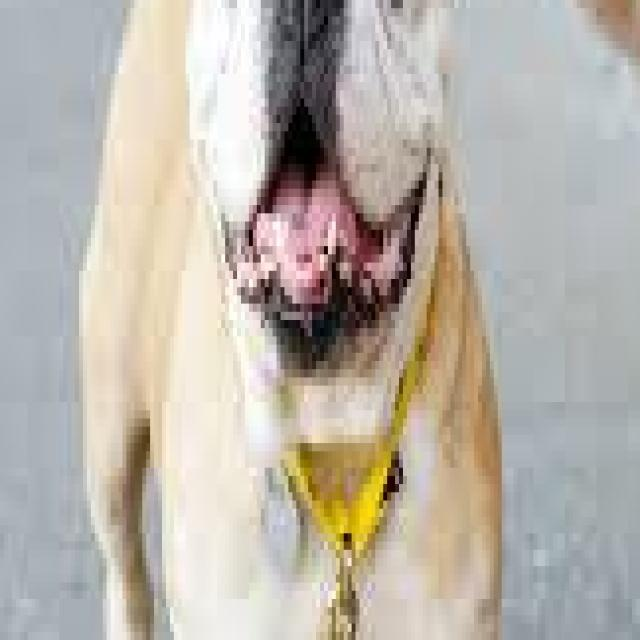dog: (40, 0, 549, 640)
